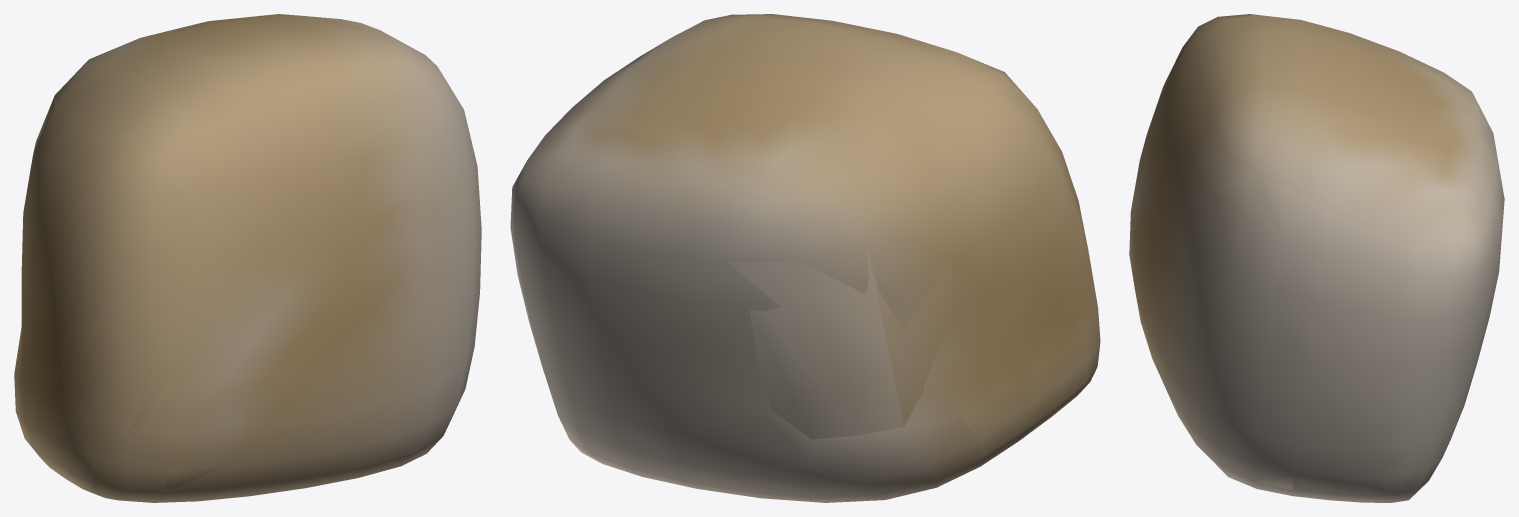
File: R tarsi primum.fbx
3 views of the same model, side by side, from view 1: azimuth 30°, elevation 25°; view 2: azimuth 150°, elevation 25°; view 3: azimuth 270°, elevation 25° (orthographic). The views are drawn at different scales.
Visible parts, largest first — view 1: R tarsi primum, R tarsi primum low; view 2: R tarsi primum, R tarsi primum low; view 3: R tarsi primum, R tarsi primum low.
Part boxes in pixels (x1,y1,x2,y2): R tarsi primum: [14, 14, 481, 502]; R tarsi primum low: [57, 51, 463, 493]; R tarsi primum: [510, 14, 1100, 502]; R tarsi primum low: [727, 14, 1088, 474]; R tarsi primum: [1129, 14, 1504, 502]; R tarsi primum low: [1234, 98, 1316, 489].
Size of the model in its own units: 1.01 by 0.8863 by 0.7874.
